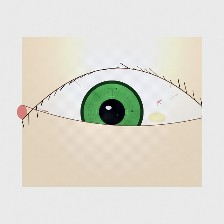pinguecula_lesion: (139, 103, 175, 132)
